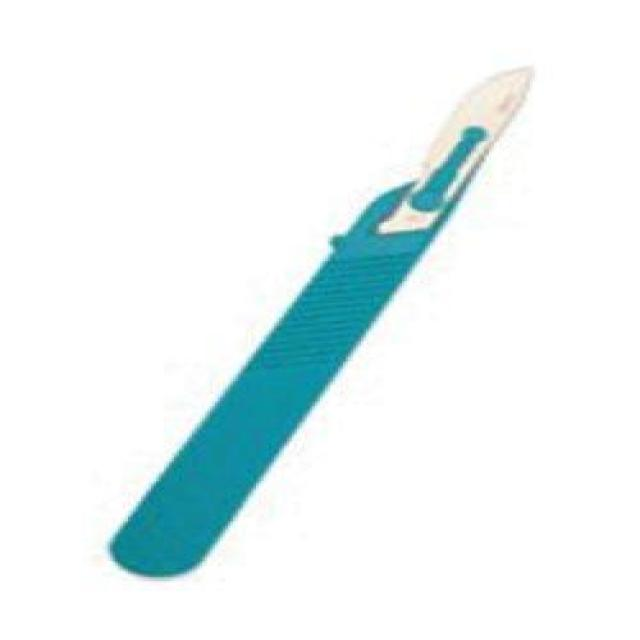B3: (105, 64, 538, 578)
